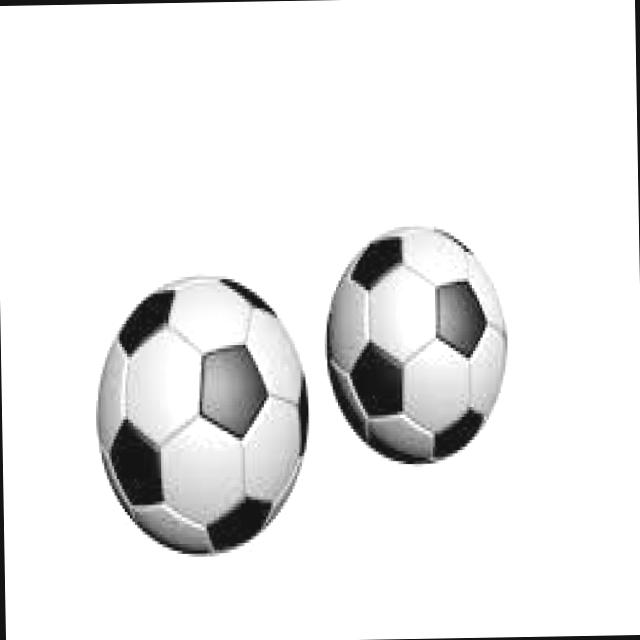Soccer Ball: (93, 267, 310, 558), (324, 222, 514, 468)
